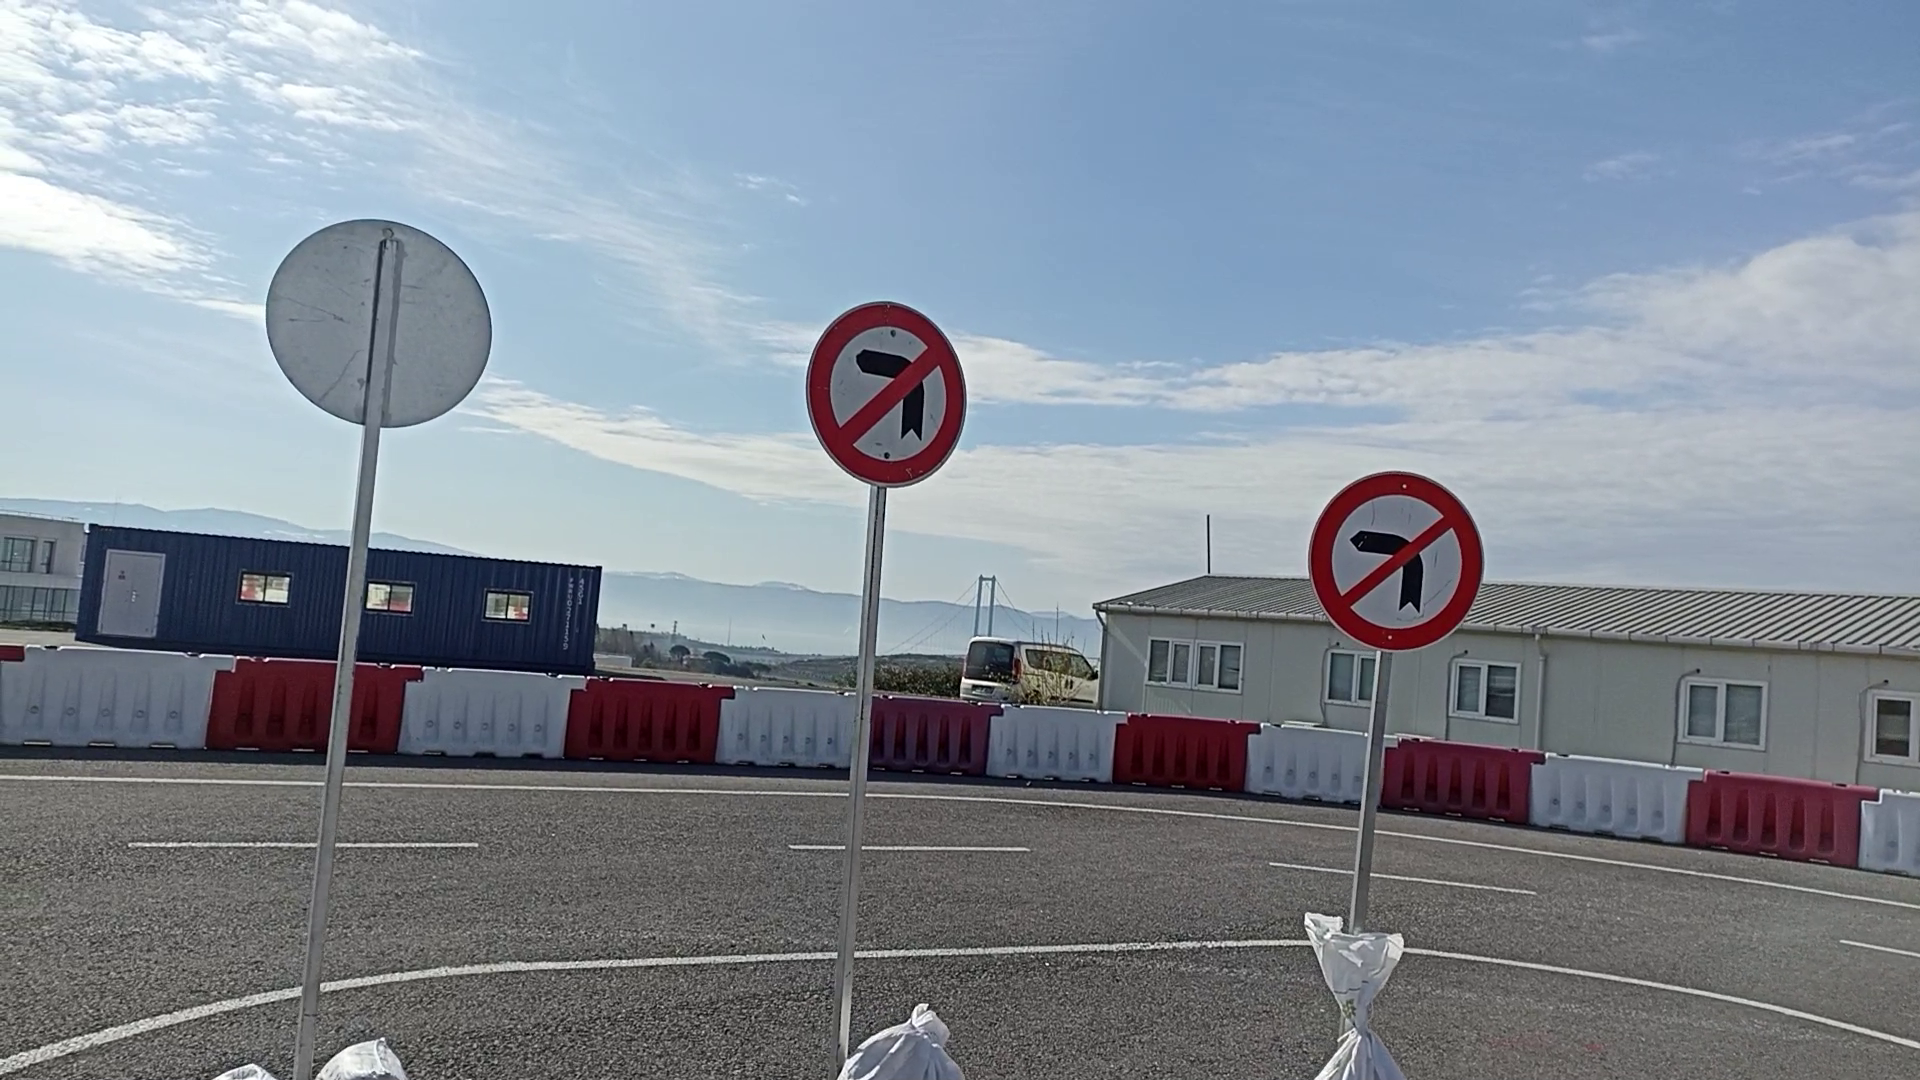noleft: (1303, 468, 1489, 651), (802, 301, 969, 491)
